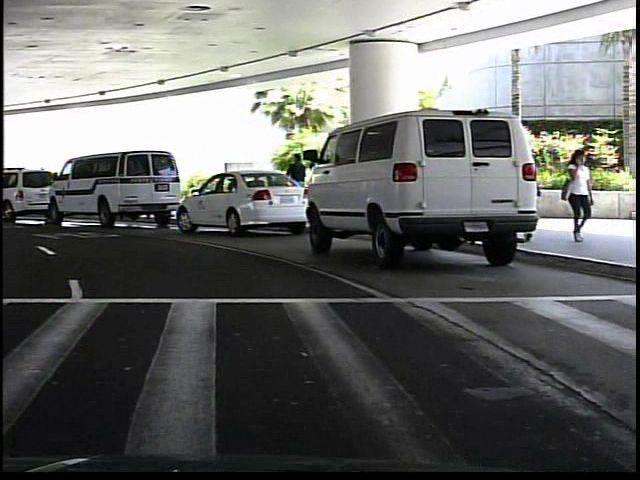person: (558, 147, 598, 244), (282, 149, 314, 215)
